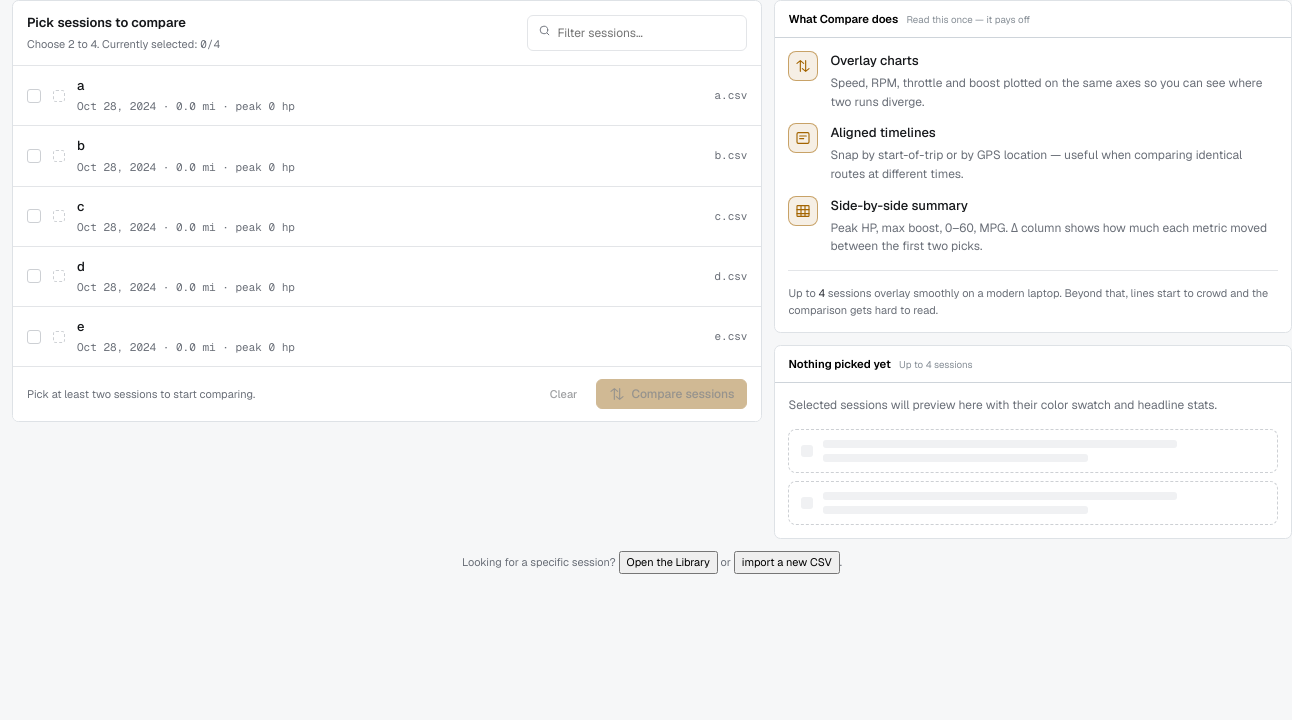
Test case: pages/compare-logs/pick-stage › disables rows beyond the max-4 cap
The image size is (1292, 720).
Click the button with test id "picker-row-s_1" at (117, 106), box [13,66,761,126]
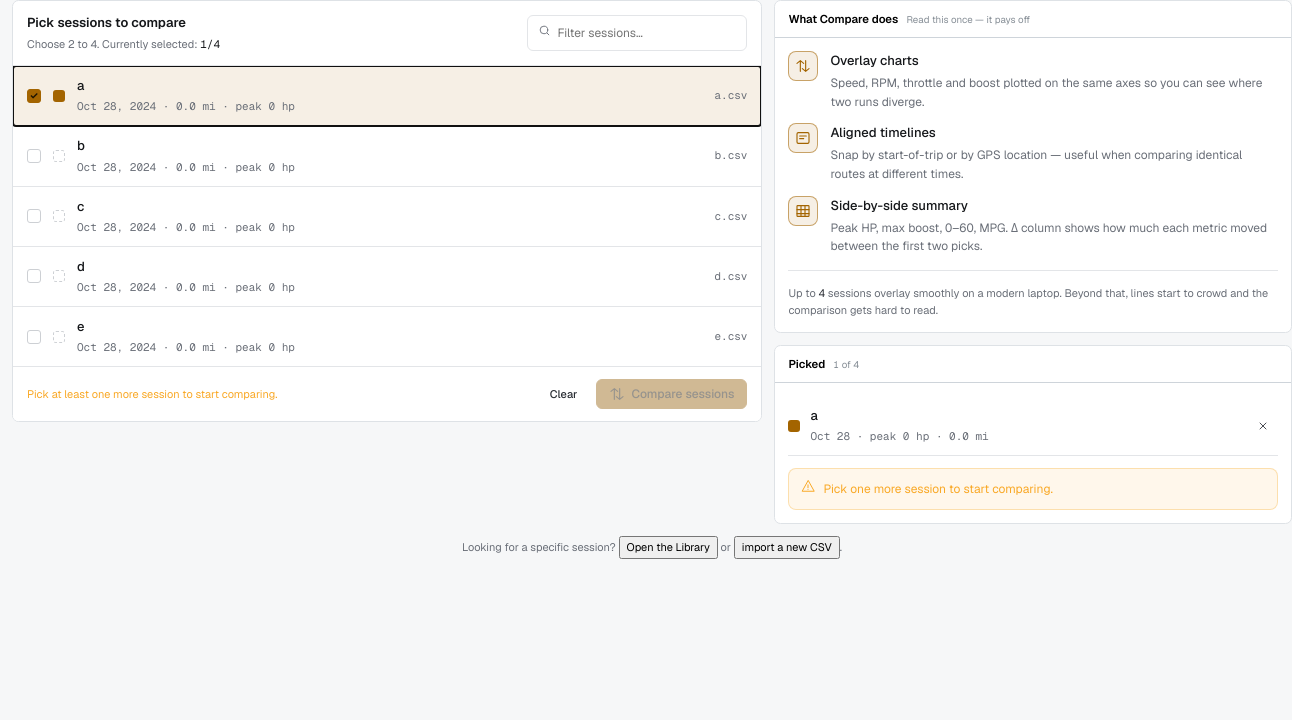
Click the button with test id "picker-row-s_2" at (117, 167), box [13,126,761,187]
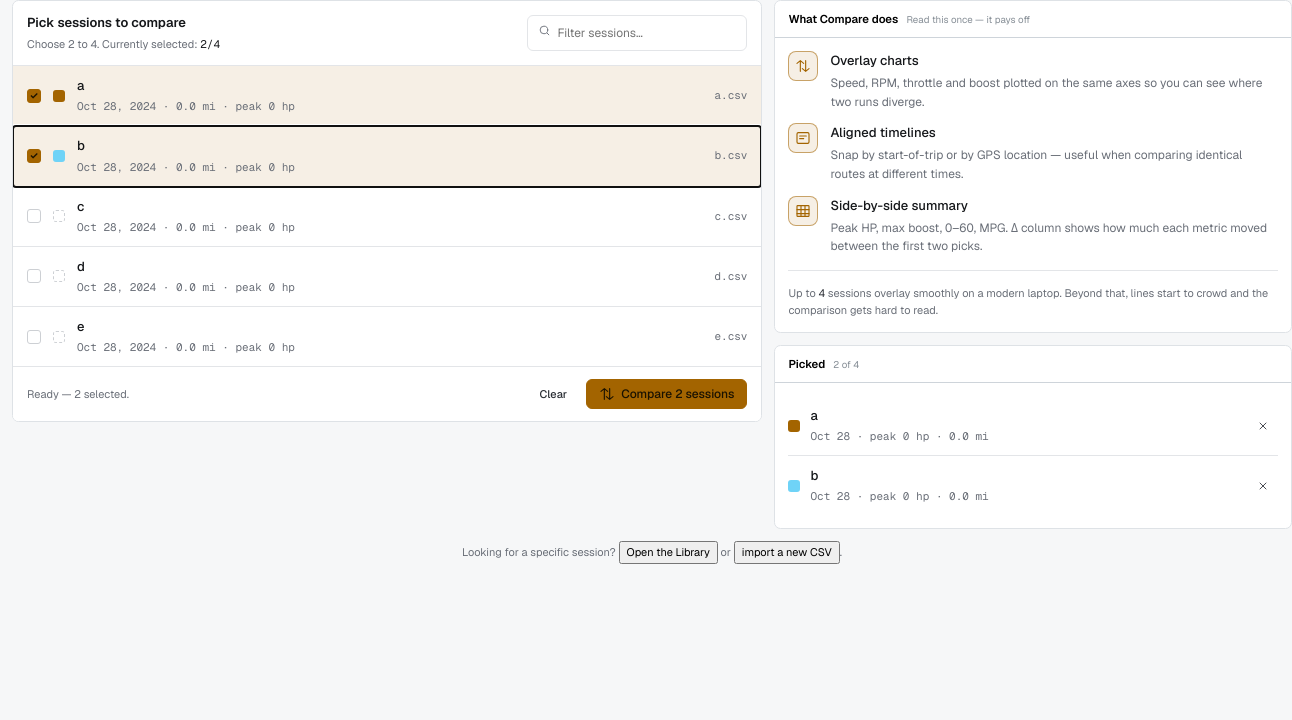
Click the button with test id "picker-row-s_3" at (117, 227), box [13,187,761,247]
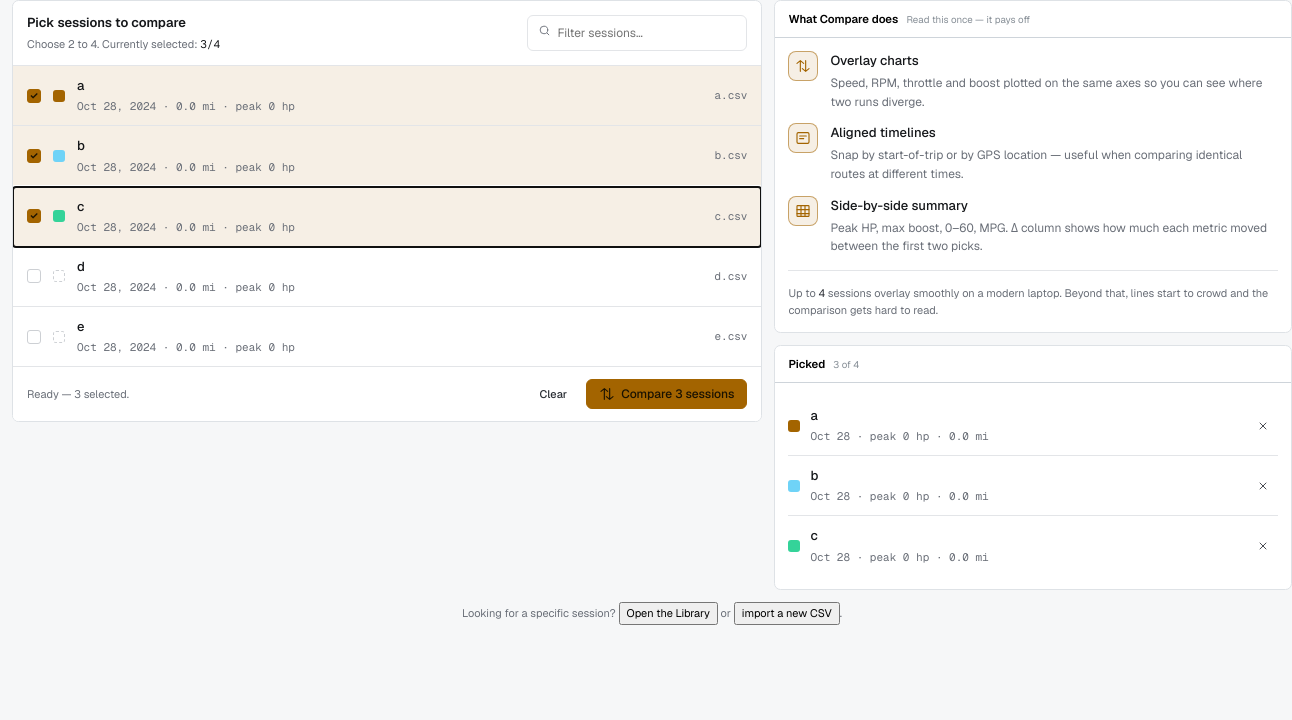
Click the button with test id "picker-row-s_4" at (117, 287), box [13,247,761,307]
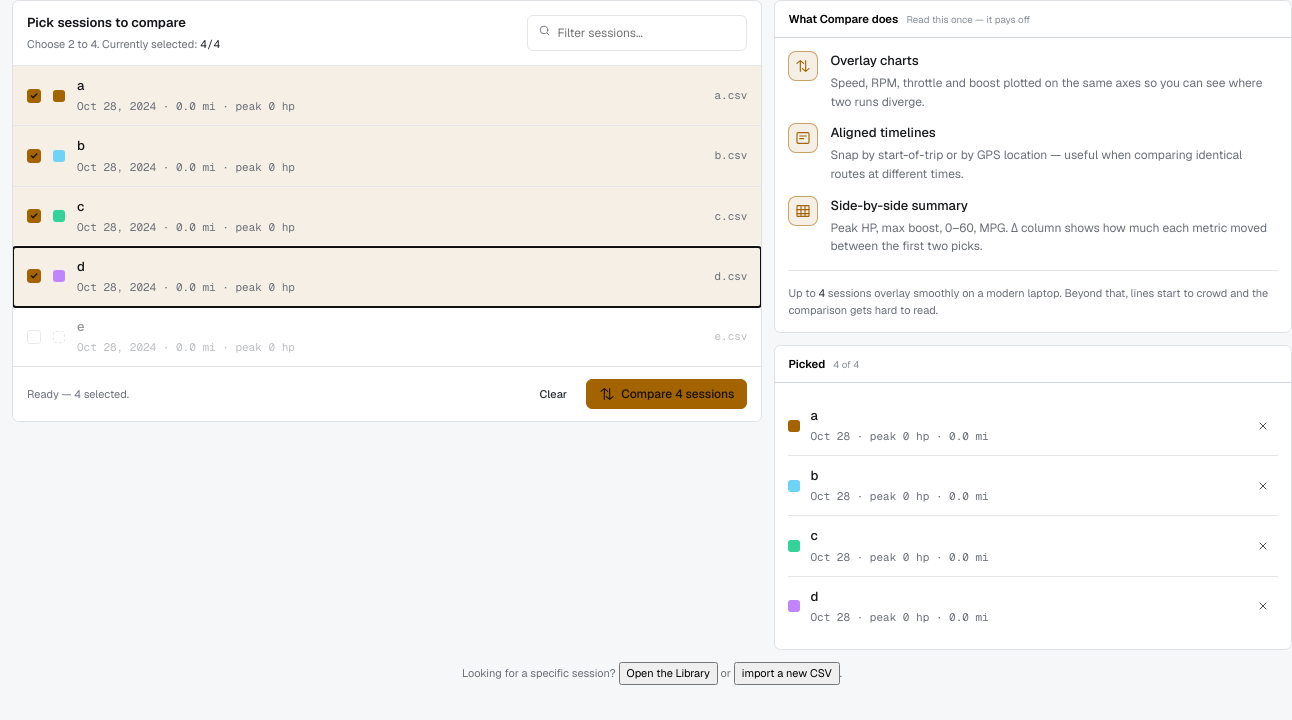
Now the button with test id "picker-row-s_5" is disabled, box [13,307,761,366]
